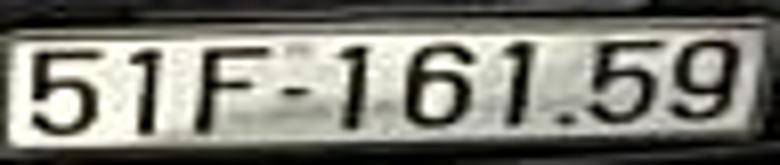-: (280, 84, 310, 97)
.: (554, 112, 573, 129)
1: (500, 42, 534, 131), (129, 47, 162, 136), (335, 44, 368, 131)
5: (31, 49, 105, 138), (596, 39, 657, 124)
6: (404, 42, 472, 129)
9: (675, 39, 736, 123)
F: (194, 47, 268, 134)
